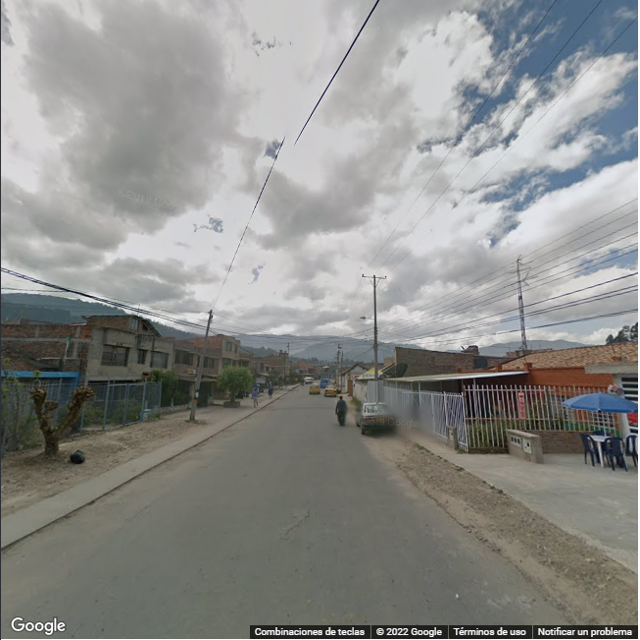D00: (276, 505, 312, 546)
